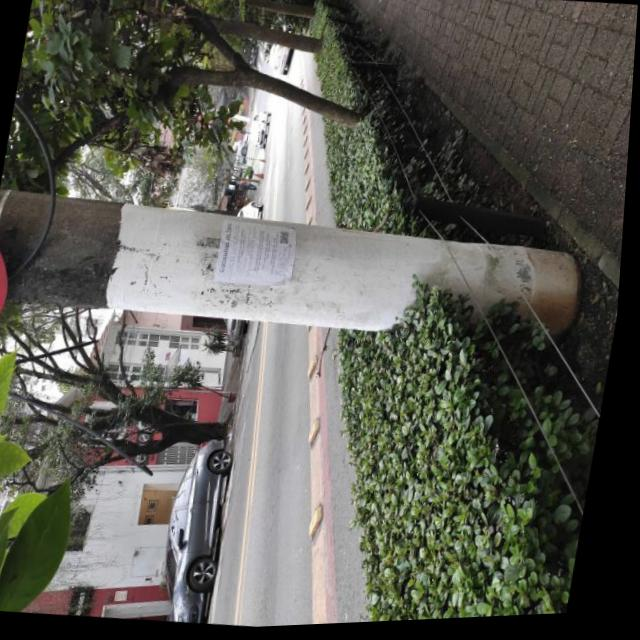qrcode: (283, 233, 294, 247)
